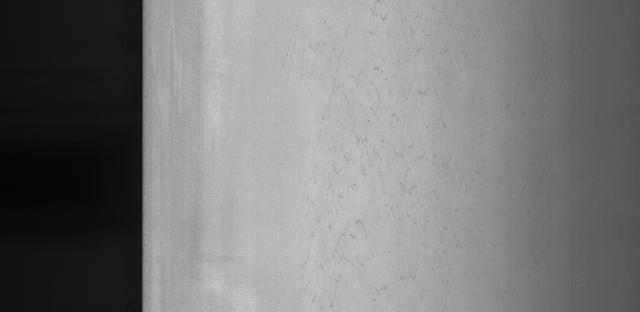silk_spot: (315, 19, 477, 312)
